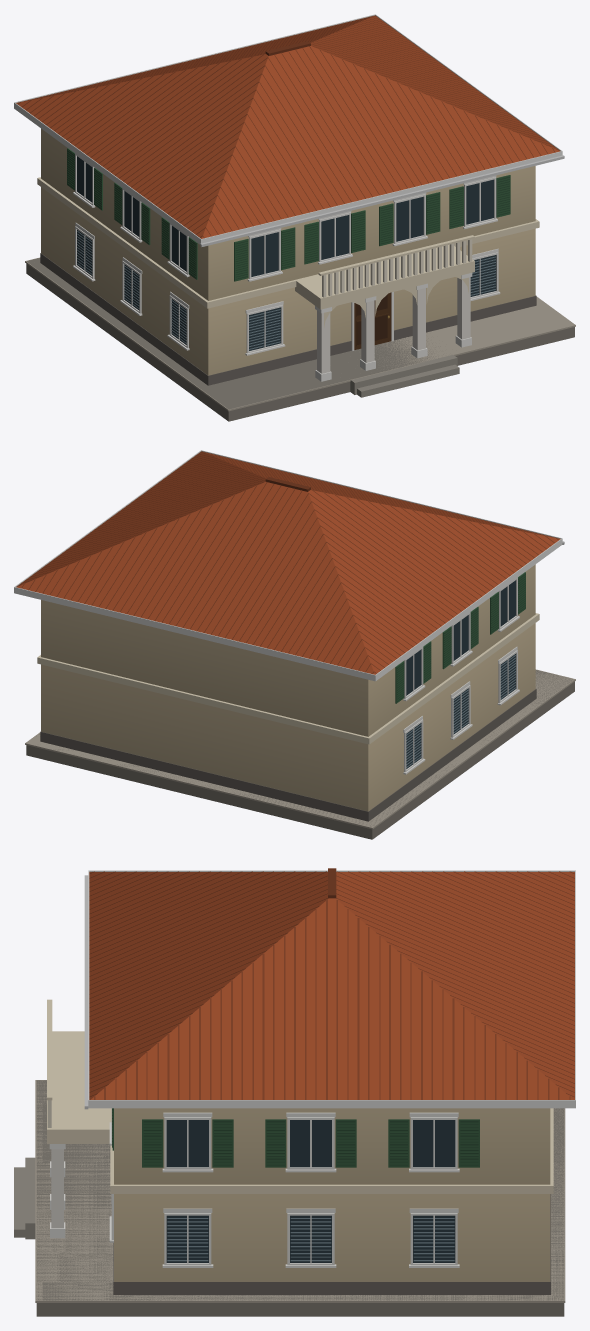
Rendered from ns_dup4.glb.
3 renders of one model, top to bottom at view 1: azimuth 30°, elevation 25°; view 2: azimuth 150°, elevation 25°; view 3: azimuth 270°, elevation 25°, orthographic. The views are drawn at different scales.
Parts seen in each view (by area): view 1: ns_dup4; view 2: ns_dup4; view 3: ns_dup4.
Boxes of the visible parts, bbox=[...] form: ns_dup4: bbox=[14, 14, 575, 421]; ns_dup4: bbox=[14, 450, 575, 839]; ns_dup4: bbox=[14, 868, 575, 1316].
Bounding box in the file's own units: 15.52 × 10.18 × 15.97.
